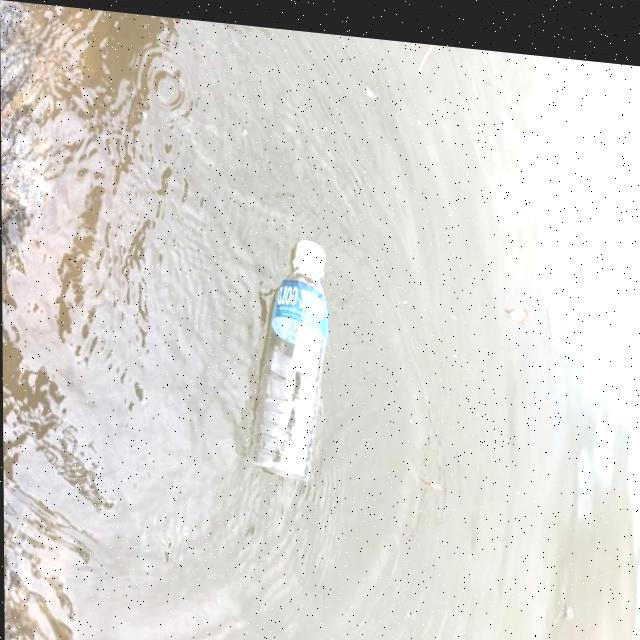waterbottle: (239, 216, 336, 473)
